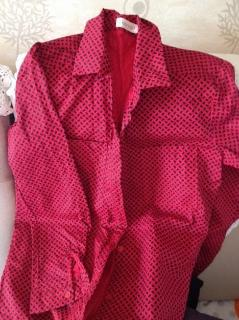long sleeve top: (0, 8, 239, 319)
